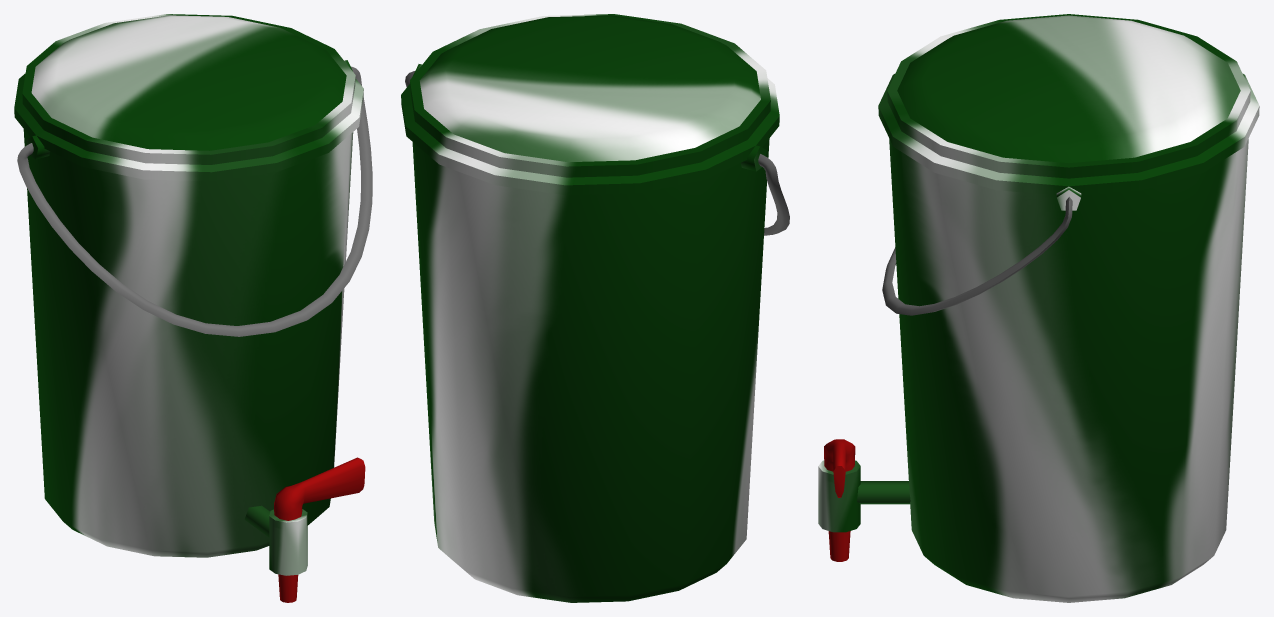
The model's file is ChlorineBucket.FBX.
3 views of the same model, side by side, from view 1: azimuth 30°, elevation 25°; view 2: azimuth 150°, elevation 25°; view 3: azimuth 270°, elevation 25° (orthographic). The views are drawn at different scales.
Visible parts, largest first — view 1: ChlorineBucket; view 2: ChlorineBucket; view 3: ChlorineBucket.
Part boxes in pixels (x1,y1,x2,y2): ChlorineBucket: (14,14,372,602); ChlorineBucket: (401,14,789,602); ChlorineBucket: (818,14,1259,602).
Bounding box in the file's own units: 18.76 × 23.31 × 19.3.
